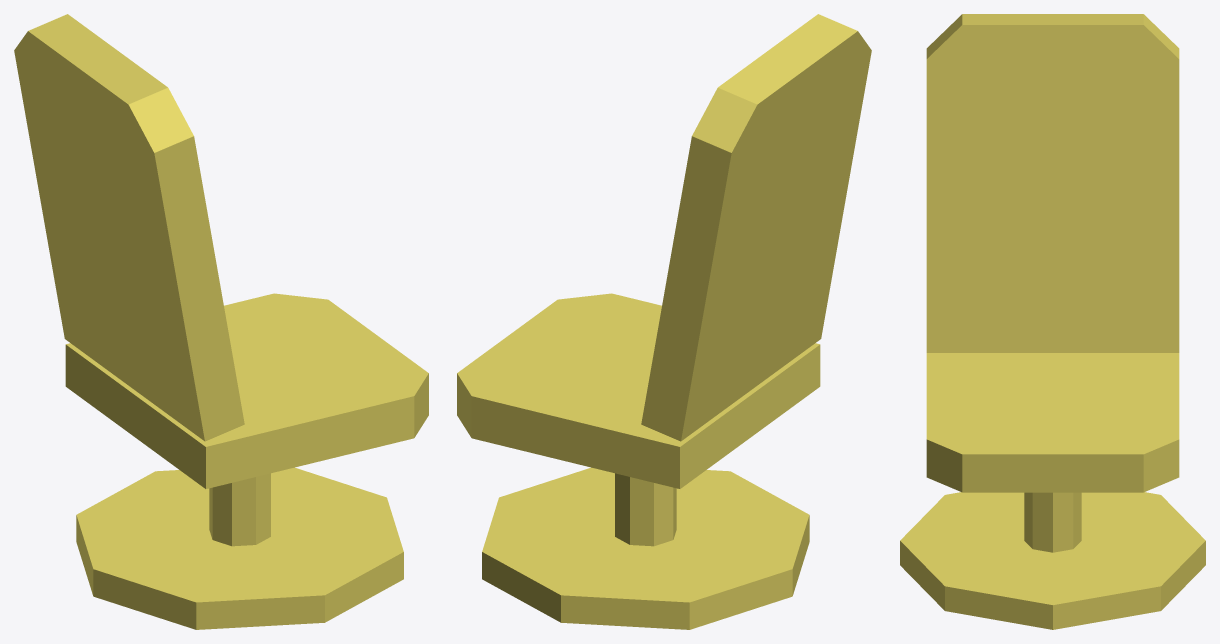
The model's file is Chair.fbx.
3 renders of one model, left to right at view 1: azimuth 30°, elevation 25°; view 2: azimuth 150°, elevation 25°; view 3: azimuth 270°, elevation 25°, orthographic. The views are drawn at different scales.
Parts seen in each view (by area): view 1: Chair; view 2: Chair; view 3: Chair.
Boxes of the visible parts, x1,y1,x2,y2 form: Chair: [14, 14, 428, 629]; Chair: [457, 14, 871, 629]; Chair: [900, 14, 1205, 629].
Bounding box in the file's own units: 40.61 × 67.85 × 38.62.
